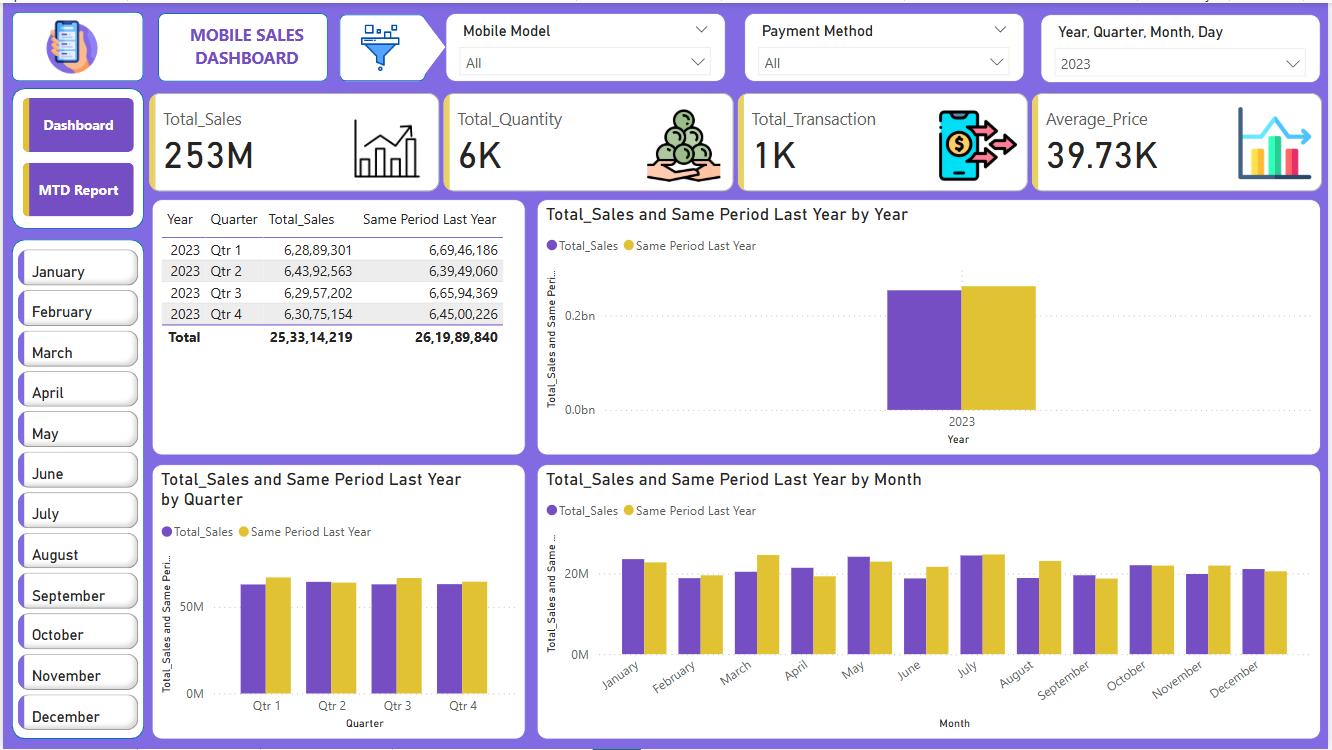

The dashboard page shown, as its layout file describes it:
{"tool":"powerbi","page":{"name":"Same Period Last Year","canvas":[1280,720],"ordinal":2},"visuals":[{"type":"shape","box":[8.4,8.4,127.9,67.6],"z":0},{"type":"image","box":[36.2,12.5,61.2,61.2],"z":1000},{"type":"shape","box":[8.4,82,127.9,136.3],"z":2000},{"type":"shape","box":[8.4,228,127.9,482.6],"z":3000},{"type":"advancedSlicerVisual","fields":{"Values":["Custom_Calender.Date.Variation.Date Hierarchy.Month"]},"box":[10,232.5,126.2,477.5],"z":4000},{"type":"cardVisual","fields":{"Data":["Sales_Data.Total_Sales","Sales_Data.Total_Quantity","Sales_Data.Total_Transaction","Sales_Data.Average_Price"]},"box":[136.2,82.5,1143.8,105],"z":5000},{"type":"slicer","fields":{"Values":["Sales_Data.Mobile Model"]},"box":[427.5,10,270,66.2],"z":6000},{"type":"slicer","fields":{"Values":["Sales_Data.Payment Method"]},"box":[715,10,270,66.2],"z":7000},{"type":"shape","box":[325,11.2,83.8,65],"z":8000},{"type":"slicer","fields":{"Values":["Custom_Calender.Date.Variation.Date Hierarchy.Year","Custom_Calender.Date.Variation.Date Hierarchy.Quarter","Custom_Calender.Date.Variation.Date Hierarchy.Month","Custom_Calender.Date.Variation.Date Hierarchy.Day"]},"box":[1001.2,11.2,270,66.2],"z":9000},{"type":"image","box":[325,16.2,78.8,55],"z":10000},{"type":"shape","box":[385,15,42.5,56.2],"z":11000},{"type":"shape","box":[149.6,9.7,164.1,66.4],"z":12000},{"type":"textbox","box":[151.2,15,168.8,53.8],"z":13000},{"type":"tableEx","fields":{"Values":["Custom_Calender.Date.Variation.Date Hierarchy.Year","Custom_Calender.Date.Variation.Date Hierarchy.Quarter","Sales_Data.Total_Sales","Sales_Data.Same Period Last Year"]},"box":[143.6,189.4,360.7,247.3],"z":14000},{"type":"clusteredColumnChart","fields":{"Category":["Custom_Calender.Date.Variation.Date Hierarchy.Year","Custom_Calender.Date.Variation.Date Hierarchy.Quarter"],"Y":["Sales_Data.Total_Sales","Sales_Data.Same Period Last Year"]},"box":[515.2,189.4,756.4,247.3],"z":15000},{"type":"clusteredColumnChart","fields":{"Y":["Sales_Data.Total_Sales","Sales_Data.Same Period Last Year"],"Category":["Custom_Calender.Date.Variation.Date Hierarchy.Year","Custom_Calender.Date.Variation.Date Hierarchy.Quarter","Custom_Calender.Date.Variation.Date Hierarchy.Month","Custom_Calender.Date.Variation.Date Hierarchy.Day"]},"box":[515.2,445.2,756.4,265.4],"z":16000},{"type":"clusteredColumnChart","fields":{"Category":["Custom_Calender.Date.Variation.Date Hierarchy.Year","Custom_Calender.Date.Variation.Date Hierarchy.Quarter"],"Y":["Sales_Data.Total_Sales","Sales_Data.Same Period Last Year"]},"box":[143.6,445.2,360.7,265.4],"z":17000},{"type":"pageNavigator","box":[19.3,91.7,107.4,114.6],"z":18000}]}

Visuals, with their boxes in screenshot pixels (x1, y1, x2, y2), scaled from the page's 1280x720 canvas onto the 1332x750 screenshot:
shape: (left=9, top=9, right=142, bottom=79)
image: (left=38, top=13, right=101, bottom=77)
shape: (left=9, top=85, right=142, bottom=227)
shape: (left=9, top=238, right=142, bottom=740)
advancedSlicerVisual - Custom_Calender.Date.Variation.Date Hierarchy.Month: (left=10, top=242, right=142, bottom=740)
cardVisual - Sales_Data.Total_Sales x Sales_Data.Total_Quantity: (left=142, top=86, right=1331, bottom=195)
slicer - Sales_Data.Mobile Model: (left=445, top=10, right=726, bottom=79)
slicer - Sales_Data.Payment Method: (left=744, top=10, right=1025, bottom=79)
shape: (left=338, top=12, right=425, bottom=79)
slicer - Custom_Calender.Date.Variation.Date Hierarchy.Year x Custom_Calender.Date.Variation.Date Hierarchy.Quarter: (left=1042, top=12, right=1323, bottom=81)
image: (left=338, top=17, right=420, bottom=74)
shape: (left=401, top=16, right=445, bottom=74)
shape: (left=156, top=10, right=326, bottom=79)
textbox: (left=157, top=16, right=333, bottom=72)
tableEx - Custom_Calender.Date.Variation.Date Hierarchy.Year x Custom_Calender.Date.Variation.Date Hierarchy.Quarter: (left=149, top=197, right=525, bottom=455)
clusteredColumnChart - Custom_Calender.Date.Variation.Date Hierarchy.Year x Custom_Calender.Date.Variation.Date Hierarchy.Quarter: (left=536, top=197, right=1323, bottom=455)
clusteredColumnChart - Sales_Data.Total_Sales x Sales_Data.Same Period Last Year: (left=536, top=464, right=1323, bottom=740)
clusteredColumnChart - Custom_Calender.Date.Variation.Date Hierarchy.Year x Custom_Calender.Date.Variation.Date Hierarchy.Quarter: (left=149, top=464, right=525, bottom=740)
pageNavigator: (left=20, top=96, right=132, bottom=215)
